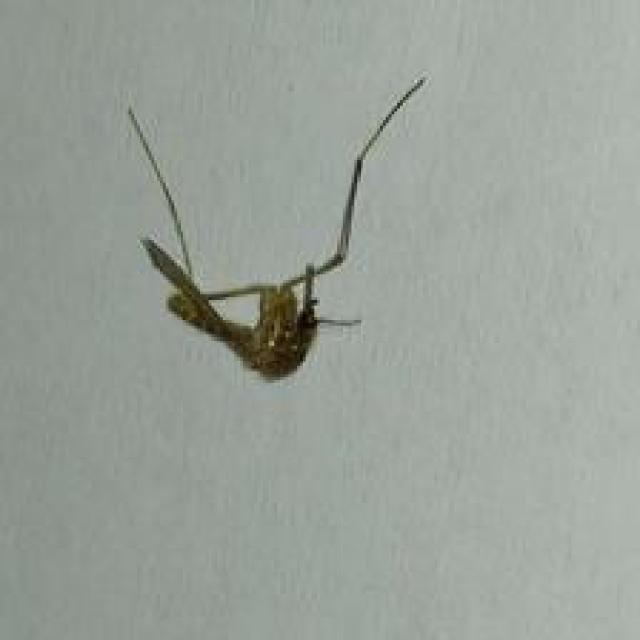Culex: (124, 73, 427, 381)
